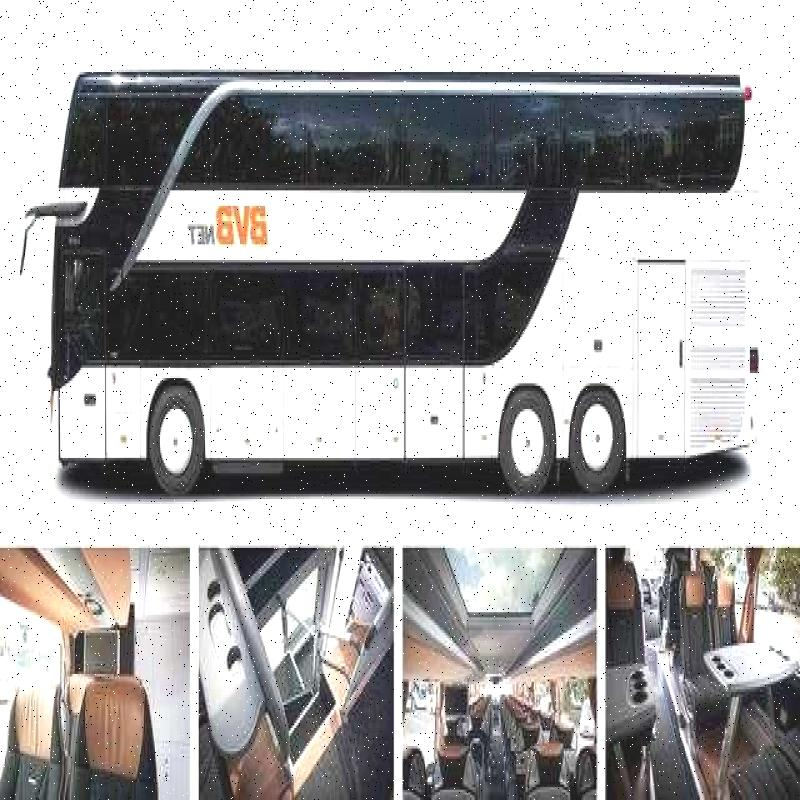bus: (41, 42, 756, 493)
